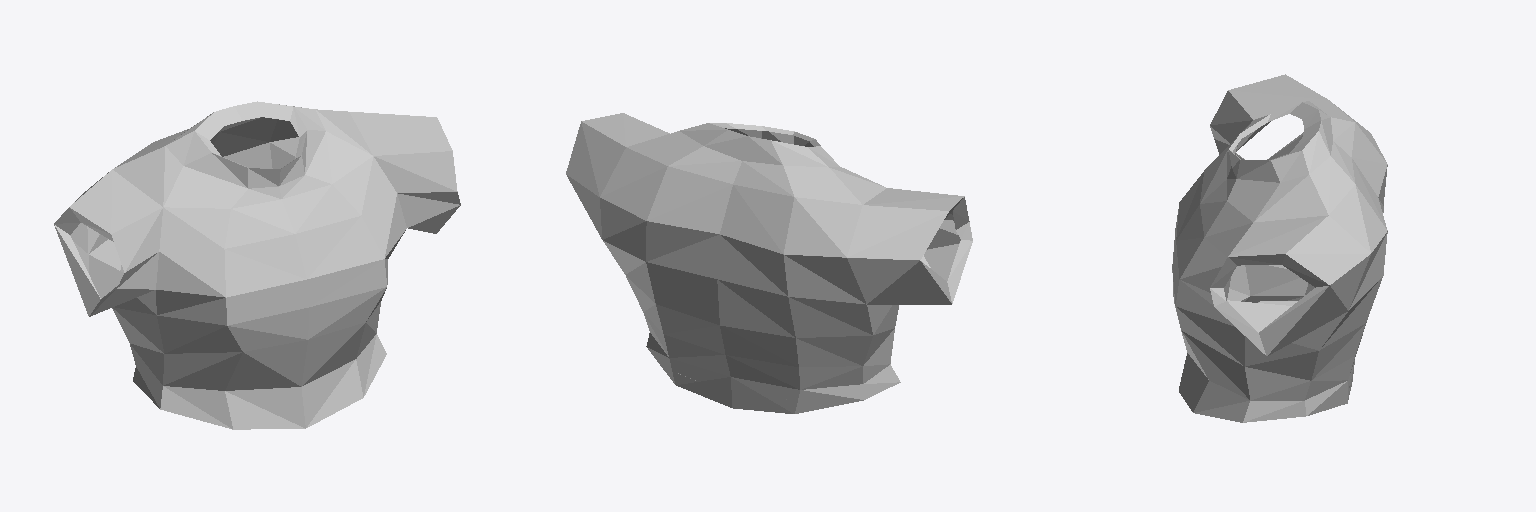
The model's file is torso_2_s.obj.
3 renders of one model, left to right at view 1: azimuth 30°, elevation 25°; view 2: azimuth 150°, elevation 25°; view 3: azimuth 270°, elevation 25°, orthographic.
Parts seen in each view (by area): view 1: 2; view 2: 2; view 3: 2.
Boxes of the visible parts, x1=… form: 2: x1=54, y1=101, x2=460, y2=429; 2: x1=566, y1=113, x2=972, y2=413; 2: x1=1172, y1=74, x2=1387, y2=422.
Bounding box in the file's own units: 0.407 × 0.286 × 0.2063.